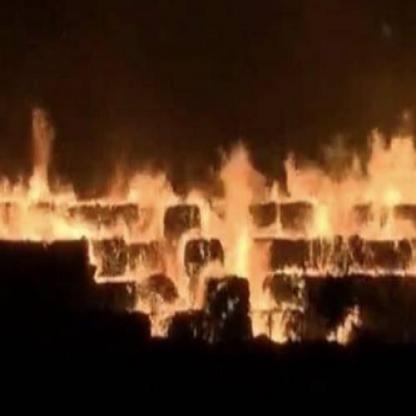fire: (6, 164, 410, 346)
